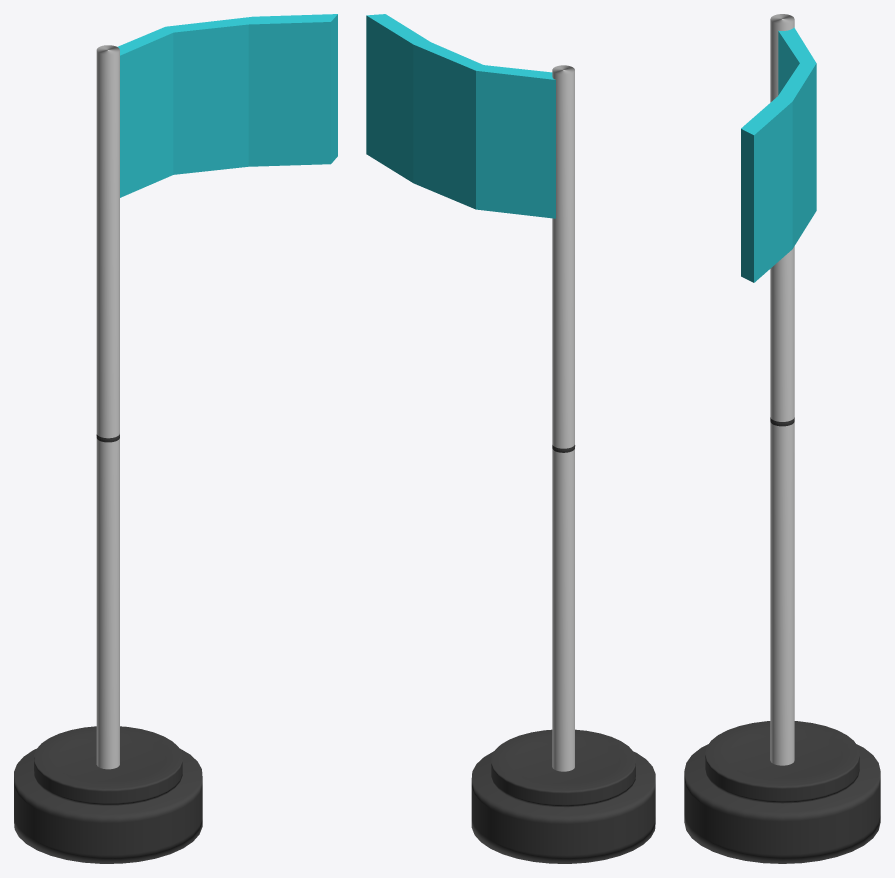
Rendered from blue_flag-DFfh7VWY.glb.
The picture shows the model from 3 angles, left to right: view 1: azimuth 30°, elevation 25°; view 2: azimuth 150°, elevation 25°; view 3: azimuth 270°, elevation 25°; orthographic projection. The views are drawn at different scales.
Parts seen in each view (by area): view 1: Plane, Cylinder.002, Cylinder, Cylinder.001; view 2: Plane, Cylinder.002, Cylinder, Cylinder.001; view 3: Plane, Cylinder.002, Cylinder, Cylinder.001.
Part boxes in pixels (<box>): Plane: <box>117,14,337,197</box>; Cylinder.002: <box>96,45,119,769</box>; Cylinder: <box>14,748,202,863</box>; Cylinder.001: <box>34,726,182,805</box>; Plane: <box>366,14,555,218</box>; Cylinder.002: <box>552,65,574,771</box>; Cylinder: <box>471,751,655,863</box>; Cylinder.001: <box>491,729,635,807</box>; Plane: <box>741,27,816,282</box>; Cylinder.002: <box>770,14,794,765</box>; Cylinder: <box>684,744,880,863</box>; Cylinder.001: <box>705,721,859,803</box>.
Bounding box in the file's own units: 3.64 × 9.04 × 2.
